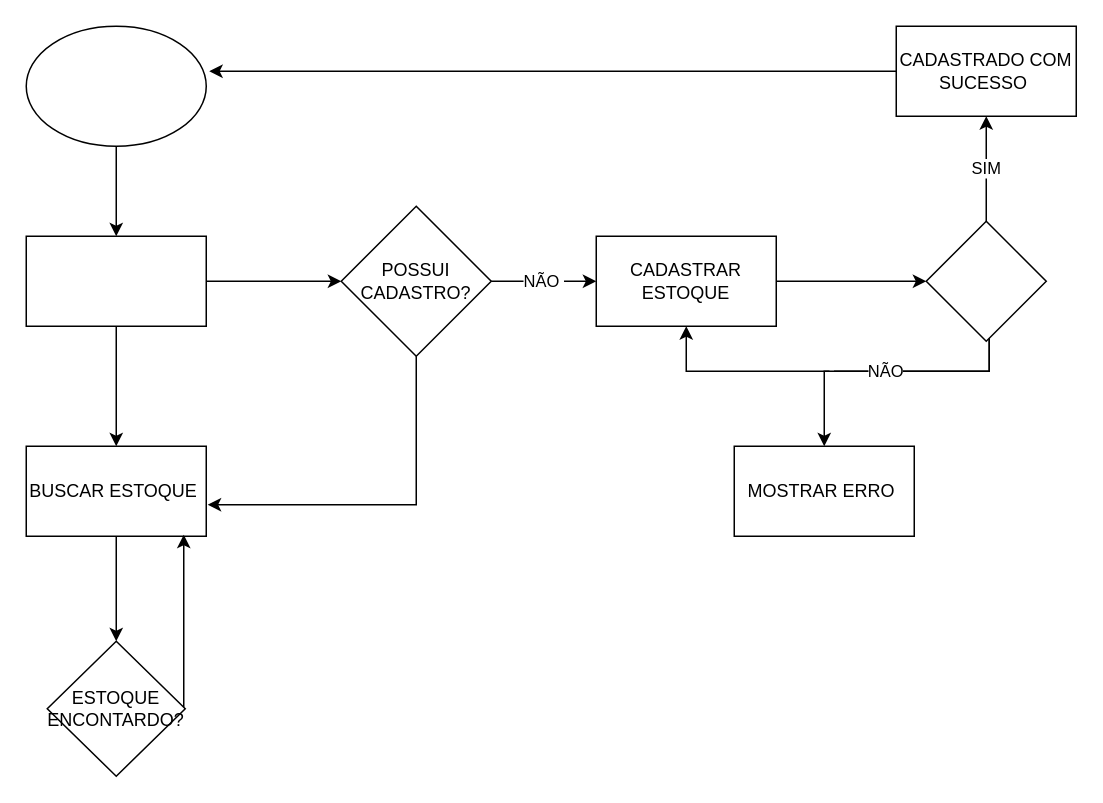
Image size: 1103x803. Some labels were removed from this diagram. Here are the shapes that lost their labels. From the top down, the box of each, then its label:
(25, 25, 206, 146): INICIO
(25, 235, 206, 326): LISTAR ESTOQUE
(925, 220, 1046, 341): É VALIDO?
